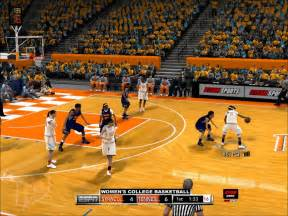basketball: (244, 117, 250, 123)
